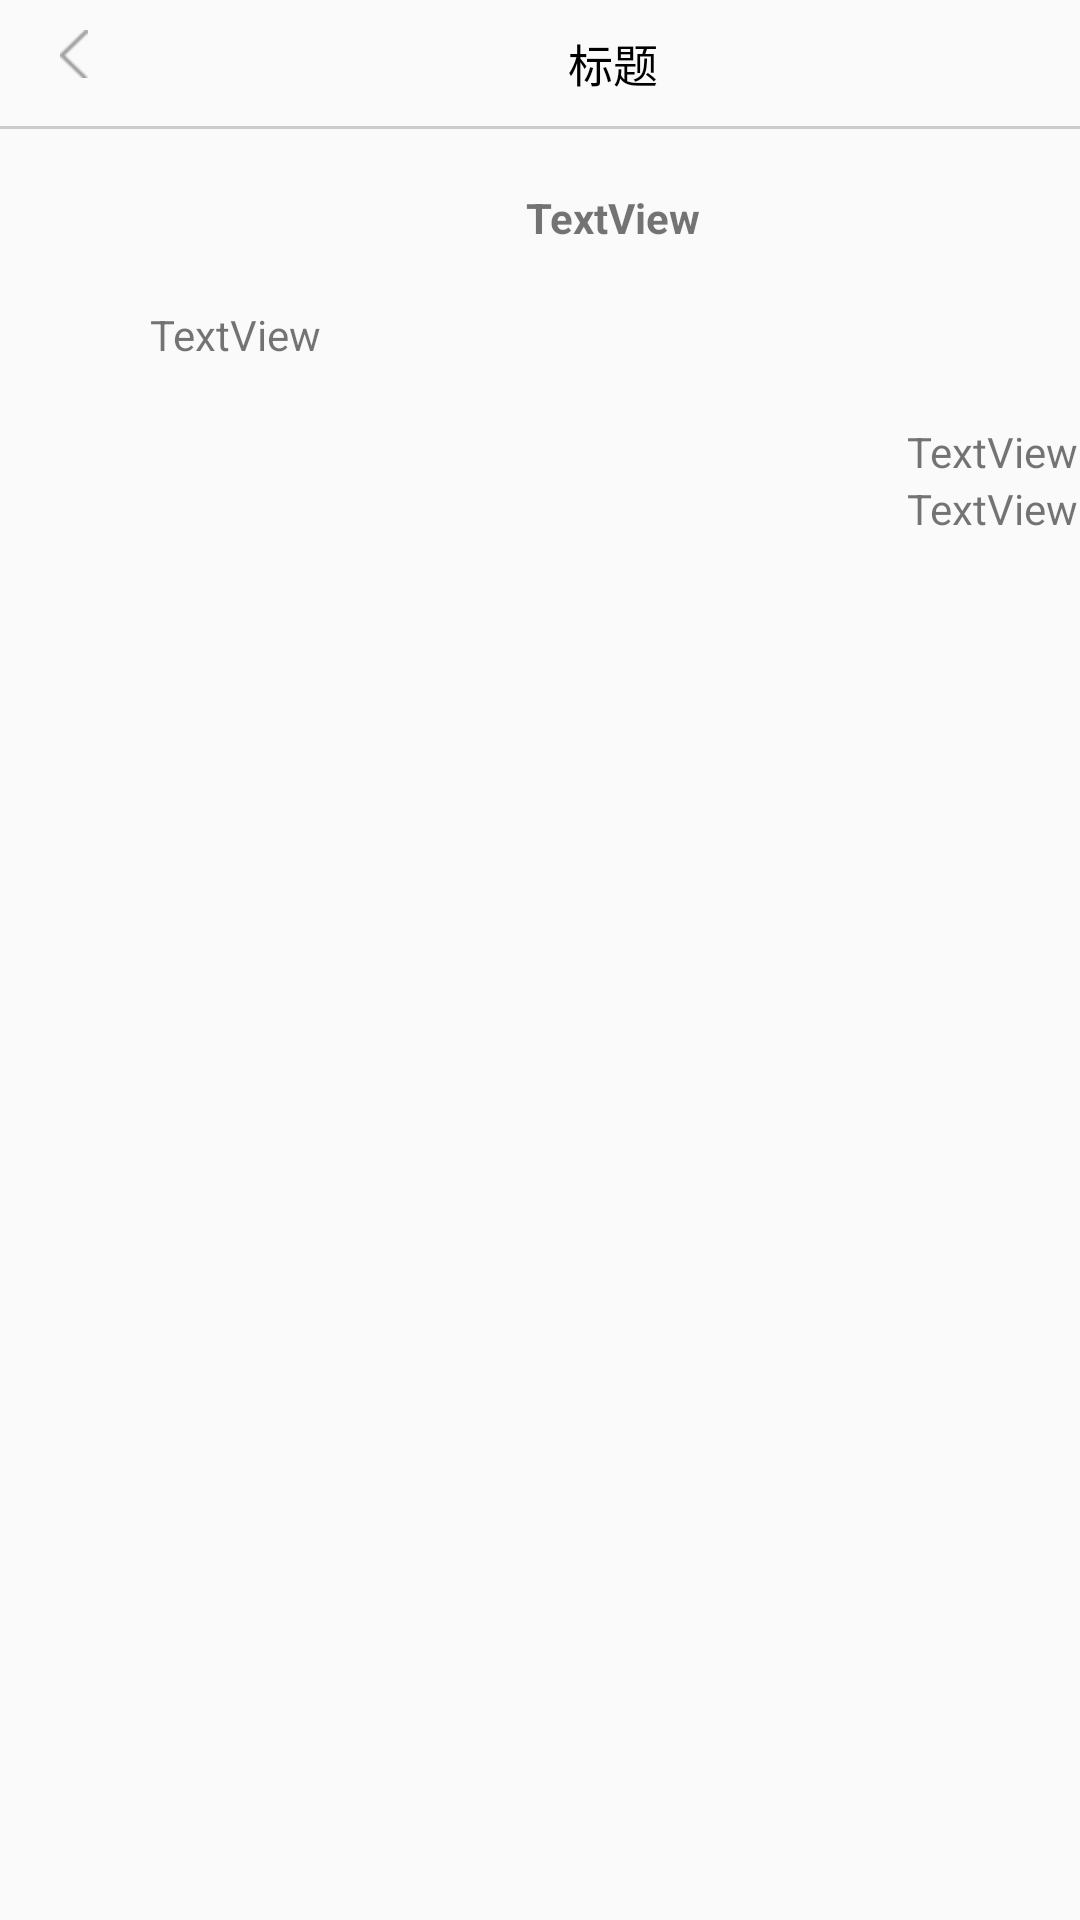

Icon bounding boxes for this 1080×1920 phone screenshot, format (left=x1, top=y1, right=x2, bottom=y2):
back: (left=60, top=30, right=88, bottom=78)
